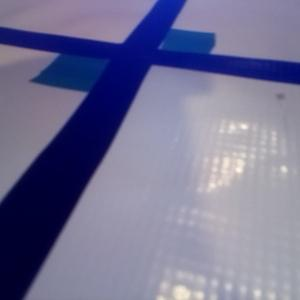bottom_left: (30, 44, 136, 92)
top_right: (135, 28, 216, 64)
